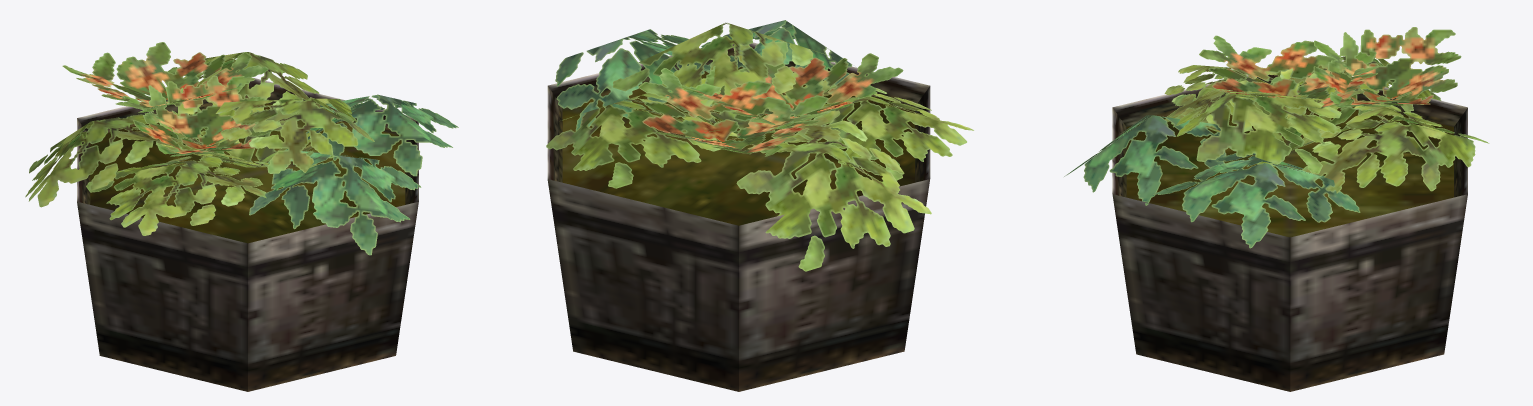
File: OZ_04_wv_plant01A.glb
3 views of the same model, side by side, from view 1: azimuth 30°, elevation 25°; view 2: azimuth 150°, elevation 25°; view 3: azimuth 270°, elevation 25° (orthographic). The views are drawn at different scales.
Visible parts, largest first — view 1: OM_04_wv_plant01A; view 2: OM_04_wv_plant01A; view 3: OM_04_wv_plant01A.
Boxes of the visible parts, x1,y1,x2,y2 form: OM_04_wv_plant01A: (25,42,458,391); OM_04_wv_plant01A: (546,20,973,391); OM_04_wv_plant01A: (1064,27,1489,391).
Bounding box in the file's own units: 0.8459 × 0.4294 × 0.784.
Materials: 1 (1 with a texture image).
